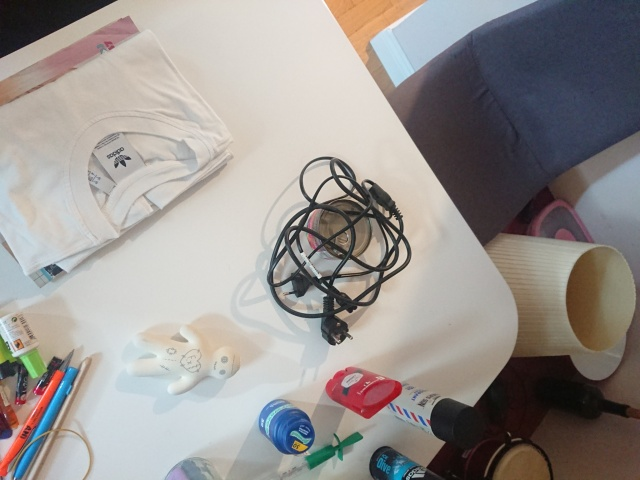Giana Tuna Salad Mexico 185g: (304, 196, 375, 263)
